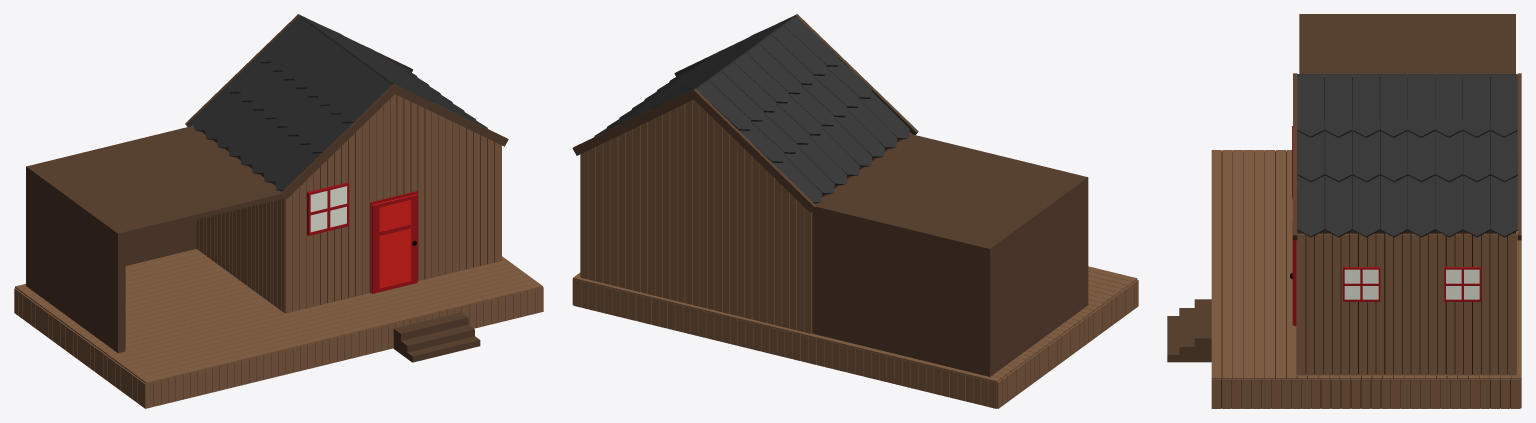
Rendered from House.fbx.
3 views of the same model, side by side, from view 1: azimuth 30°, elevation 25°; view 2: azimuth 150°, elevation 25°; view 3: azimuth 270°, elevation 25° (orthographic). The views are drawn at different scales.
Parts seen in each view (by area): view 1: Ground_Border, House_Border, Side_Roof, Roof, Door, Cube, House, Window; view 2: Side_Roof, House_Border, Roof, Ground_Border; view 3: Roof, Ground_Border, House_Border, Side_Roof, House, Ground, Cube, Window.001, Window.002, Door.
Part boxes in pixels (x1,y1,x2,y2): Ground_Border: (14,249,543,408); House_Border: (192,94,501,313); Side_Roof: (26,125,283,353); Roof: (185,14,508,199); Door: (370,191,417,293); Cube: (393,312,480,362); House: (193,95,494,304); Window: (307,182,349,235); Side_Roof: (812,133,1088,376); House_Border: (580,99,911,333); Roof: (572,14,918,212); Ground_Border: (572,266,1138,408); Roof: (1293,73,1521,240); Ground_Border: (1211,150,1521,408); House_Border: (1296,183,1516,375); Side_Roof: (1299,14,1515,76); House: (1297,76,1515,374); Ground: (1221,151,1511,408); Cube: (1167,299,1211,362); Window.001: (1343,267,1380,301); Window.002: (1444,267,1481,301); Door: (1290,196,1296,326).
Size of the model in its own units: 1691 by 932 by 1107.
